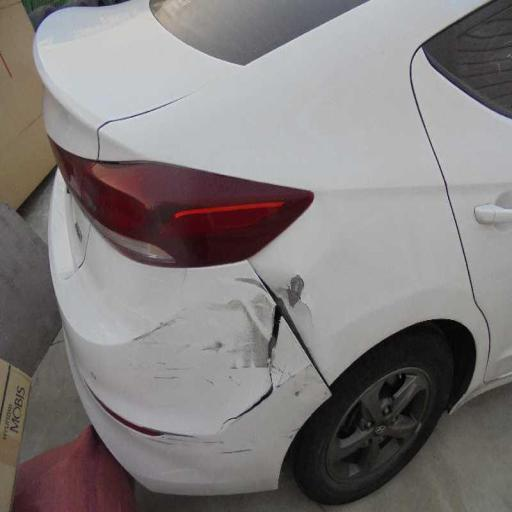broken: (88, 177, 346, 512)
